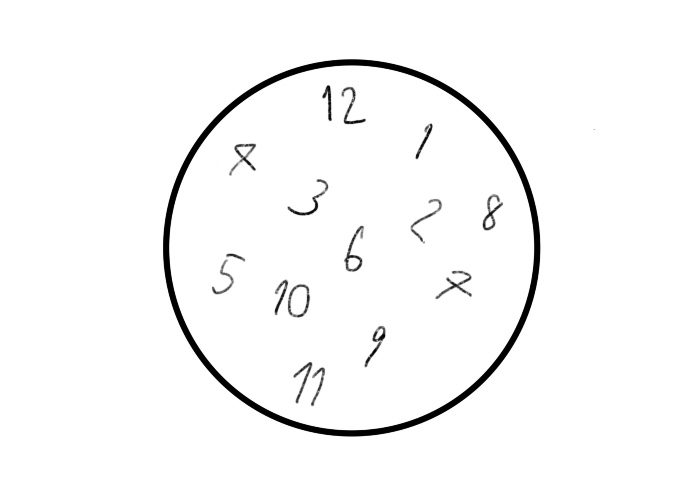eight: (480, 186, 505, 237)
eleven: (293, 359, 326, 410)
five: (211, 245, 247, 300)
four: (228, 133, 258, 177)
nine: (364, 324, 387, 373)
one: (415, 121, 435, 159)
seven: (435, 261, 474, 302)
six: (341, 219, 367, 277)
ten: (271, 273, 314, 322)
three: (283, 170, 331, 218)
twelve: (319, 80, 369, 126)
two: (408, 191, 443, 245)
